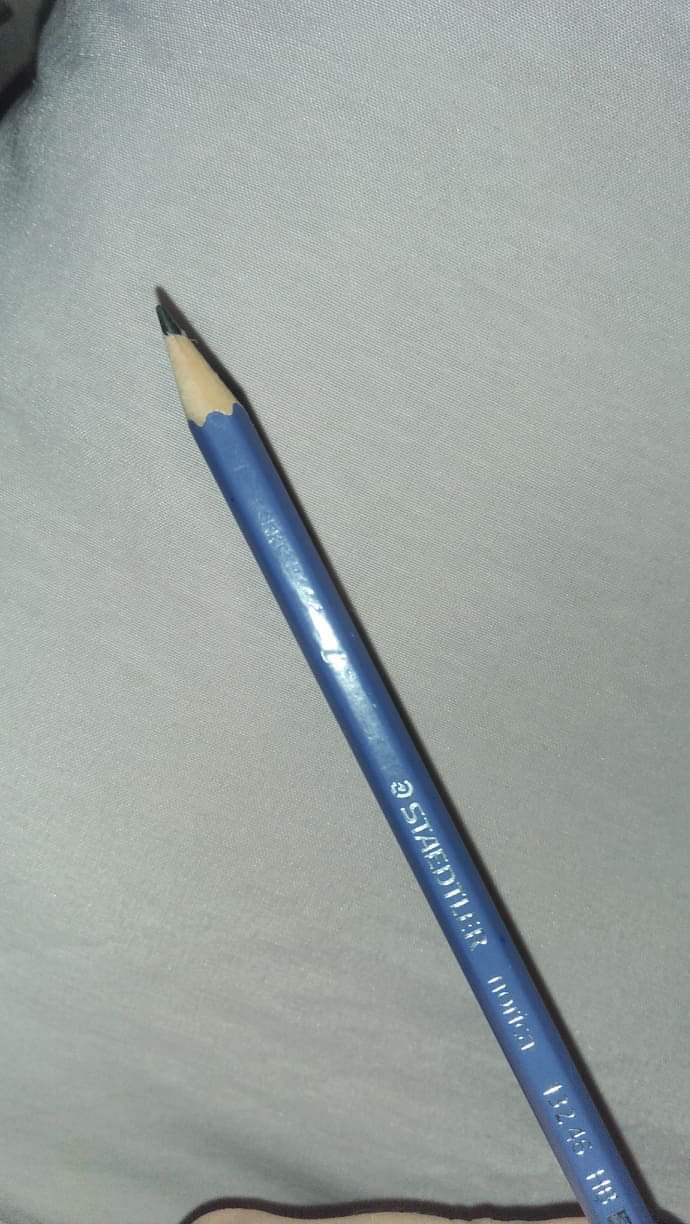pen_tip: (113, 271, 303, 457)
